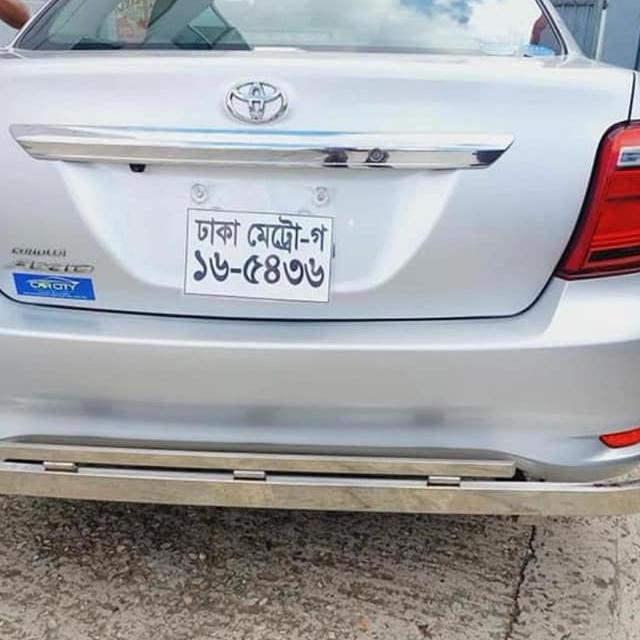Number-Plate: (184, 210, 335, 302)
